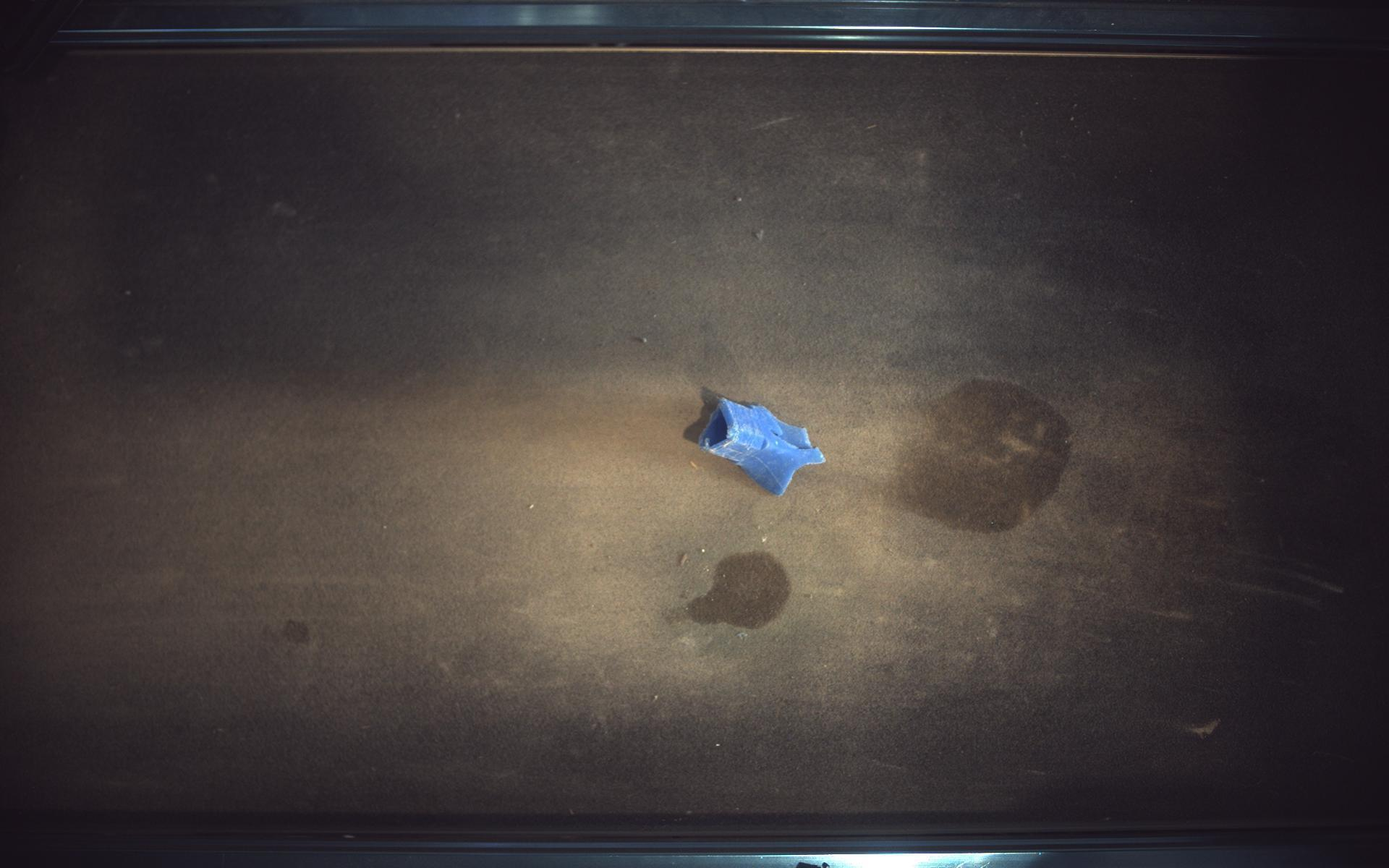plastic: (700, 399, 827, 496)
